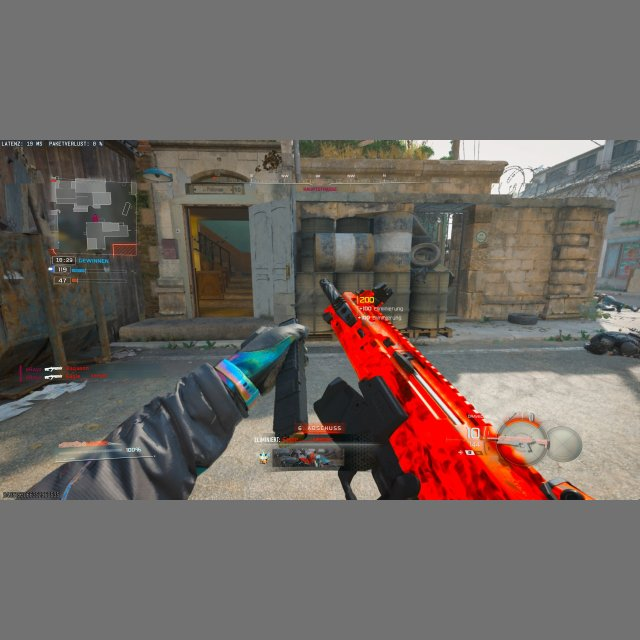head: (584, 334, 605, 355)
